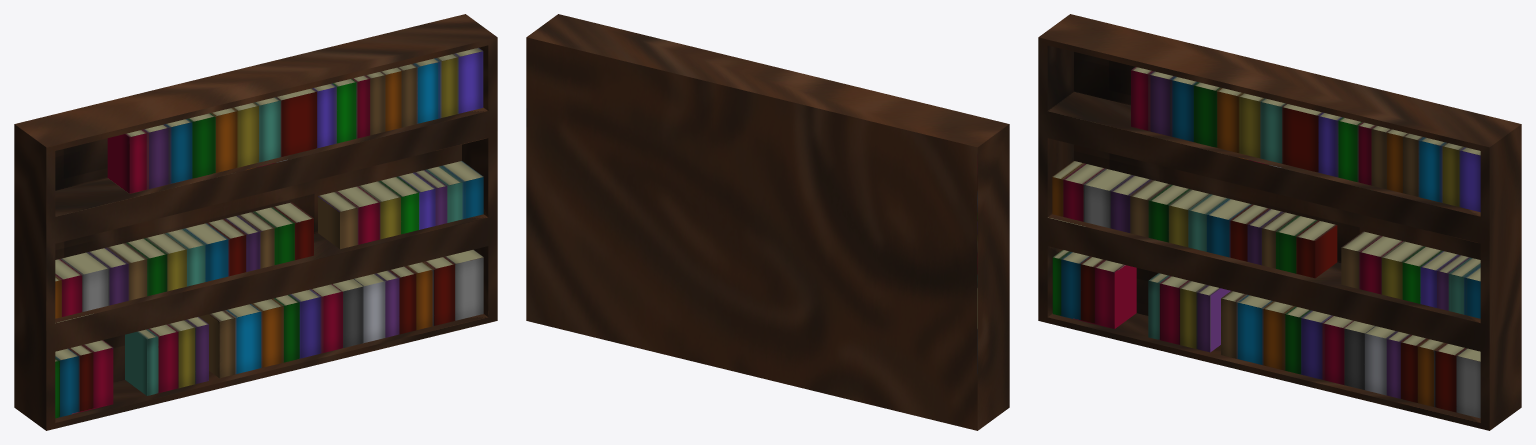
Rendered from shelving01.obj.
The picture shows the model from 3 angles, left to right: view 1: azimuth 30°, elevation 25°; view 2: azimuth 150°, elevation 25°; view 3: azimuth 330°, elevation 25°; orthographic projection.
Parts seen in each view (by area): view 1: Estanteria.001_Cube.017; view 2: Estanteria.001_Cube.017; view 3: Estanteria.001_Cube.017.
Boxes of the visible parts, x1,y1,x2,y2 form: Estanteria.001_Cube.017: (14, 14, 497, 430); Estanteria.001_Cube.017: (526, 14, 1009, 430); Estanteria.001_Cube.017: (1038, 14, 1521, 430).
Size of the model in its own units: 5.38 by 3.23 by 0.6579.
